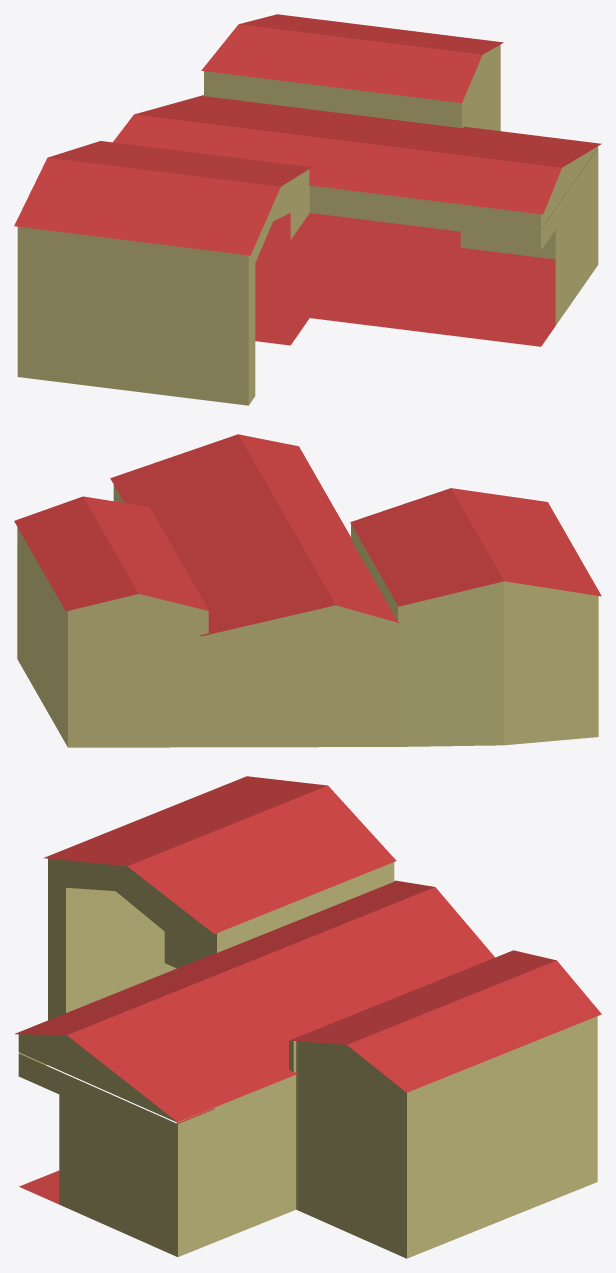
The picture shows the model from 3 angles, top to bottom: view 1: azimuth 30°, elevation 25°; view 2: azimuth 150°, elevation 25°; view 3: azimuth 270°, elevation 25°; orthographic projection. The views are drawn at different scales.
Size of the model in its own units: 54.42 by 43.39 by 16.44.
